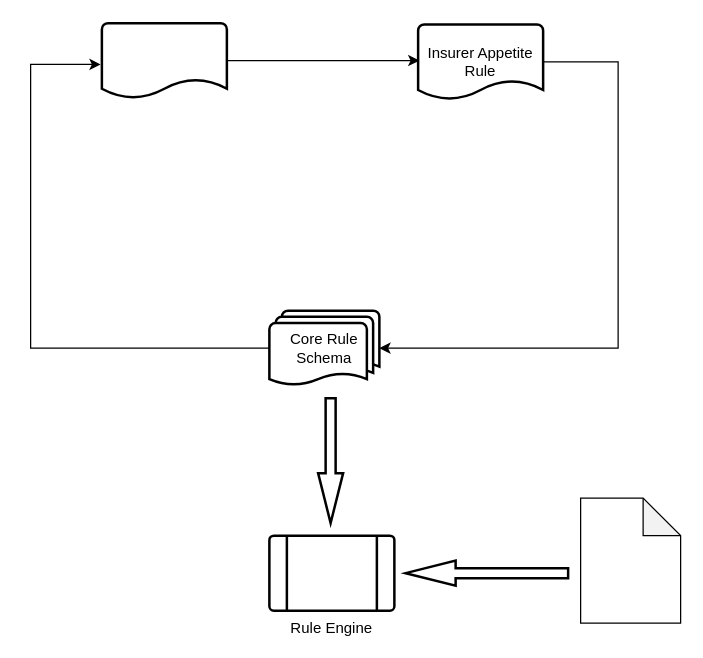
Some shapes in this 703 by 658 pixel diagram are drawn without their labels. Each missing label, with the centre of its shape:
Data: point 630,560
Product Rule: point 164,60
